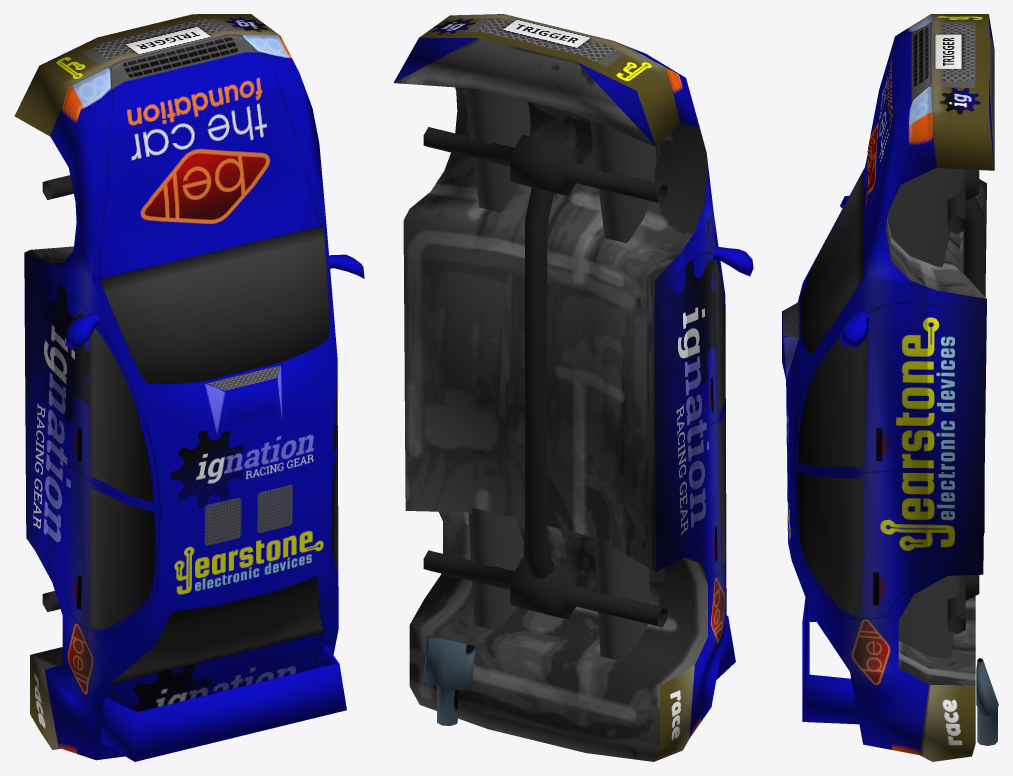
Rendered from evo_wrc.obj.
The picture shows the model from 3 angles, left to right: view 1: azimuth 30°, elevation 25°; view 2: azimuth 150°, elevation 25°; view 3: azimuth 270°, elevation 25°; orthographic projection. The views are drawn at different scales.
Parts seen in each view (by area): view 1: evo.001; view 2: evo.001; view 3: evo.001.
Boxes of the visible parts, x1,y1,x2,y2 form: evo.001: (14, 14, 364, 761); evo.001: (393, 14, 753, 761); evo.001: (782, 14, 998, 761).
Bounding box in the file's own units: 2.03 × 4.45 × 1.32.
2 materials, 2 textured.
